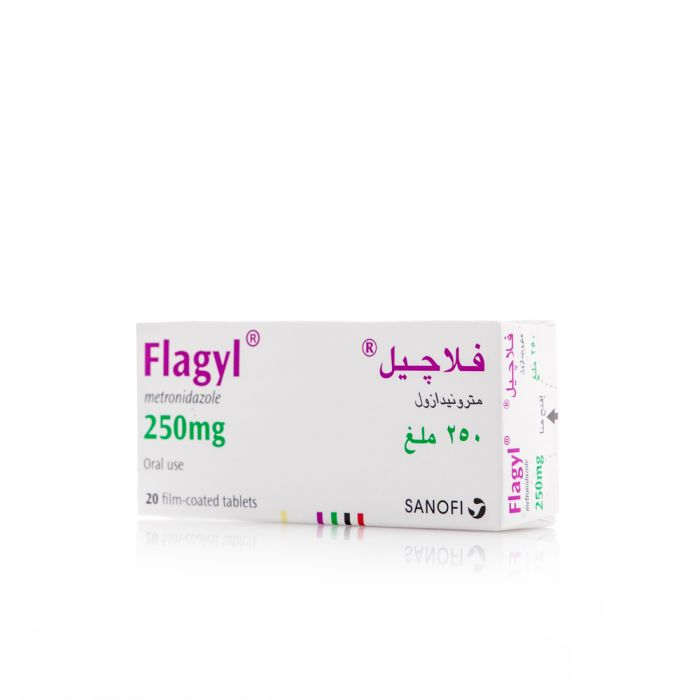Medicine: (118, 316, 568, 544)
